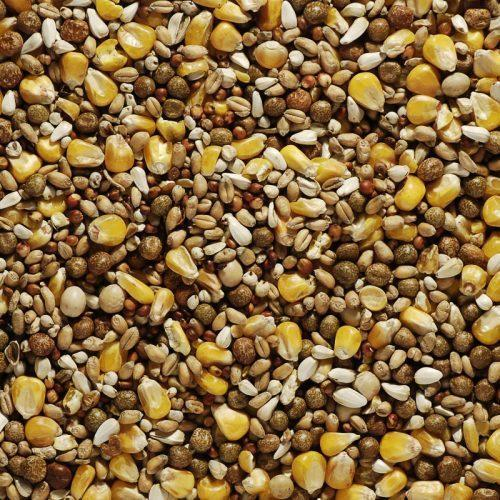seed: (1, 3, 500, 500)
